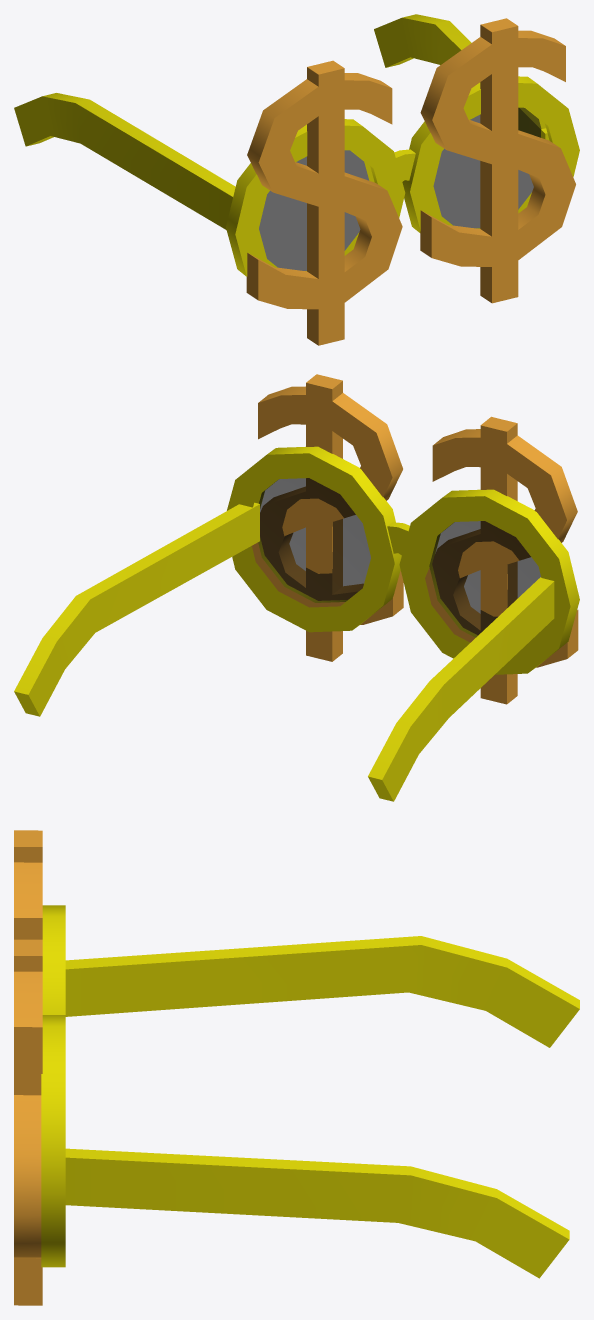
Rendered from Dollar_Glasses.fbx.
3 views of the same model, one above another, from view 1: azimuth 30°, elevation 25°; view 2: azimuth 150°, elevation 25°; view 3: azimuth 270°, elevation 25° (orthographic). The views are drawn at different scales.
Parts seen in each view (by area): view 1: Dollar_Glasses; view 2: Dollar_Glasses; view 3: Dollar_Glasses.
Part boxes in pixels (left/top/right/bottom): Dollar_Glasses: left=14, top=14, right=579, bottom=345; Dollar_Glasses: left=14, top=374, right=579, bottom=801; Dollar_Glasses: left=14, top=830, right=579, bottom=1305.
Size of the model in its own units: 2.72 by 1.91 by 2.79.
